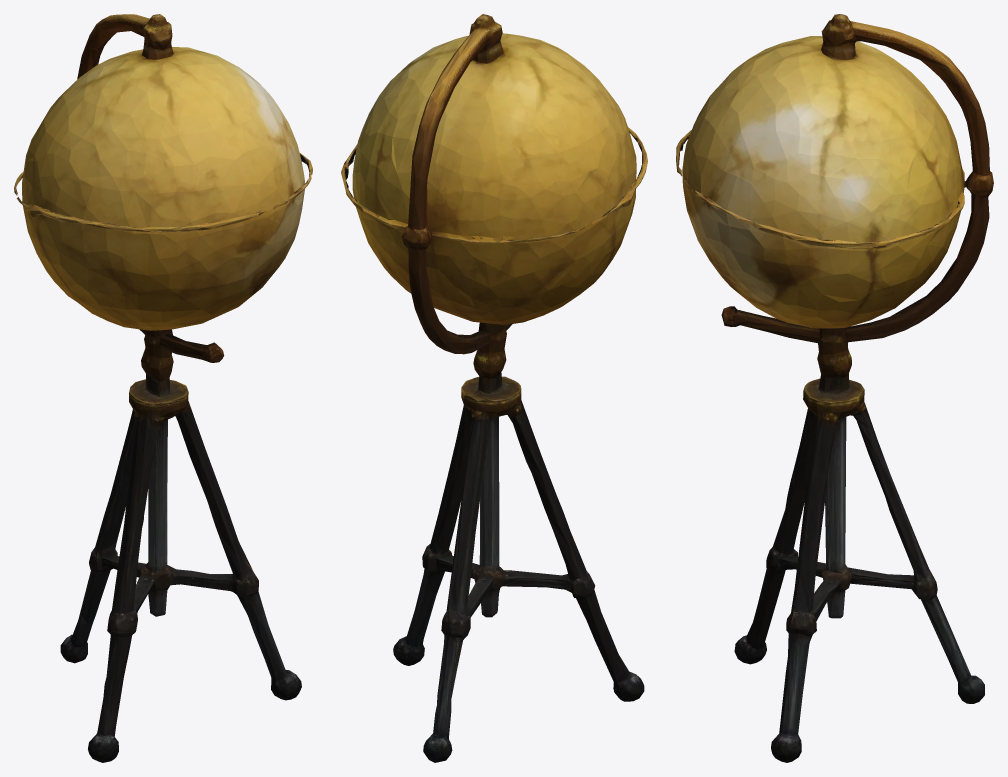
3 views of the same model, side by side, from view 1: azimuth 30°, elevation 25°; view 2: azimuth 150°, elevation 25°; view 3: azimuth 270°, elevation 25° (orthographic).
Parts seen in each view (by area): view 1: geometry_0; view 2: geometry_0; view 3: geometry_0.
Boxes of the visible parts, bbox=[...] form: geometry_0: bbox=[14, 14, 312, 762]; geometry_0: bbox=[341, 14, 647, 762]; geometry_0: bbox=[676, 14, 993, 762].
Bounding box in the file's own units: 0.4082 × 0.9997 × 0.4144.
1 material, 1 textured.
